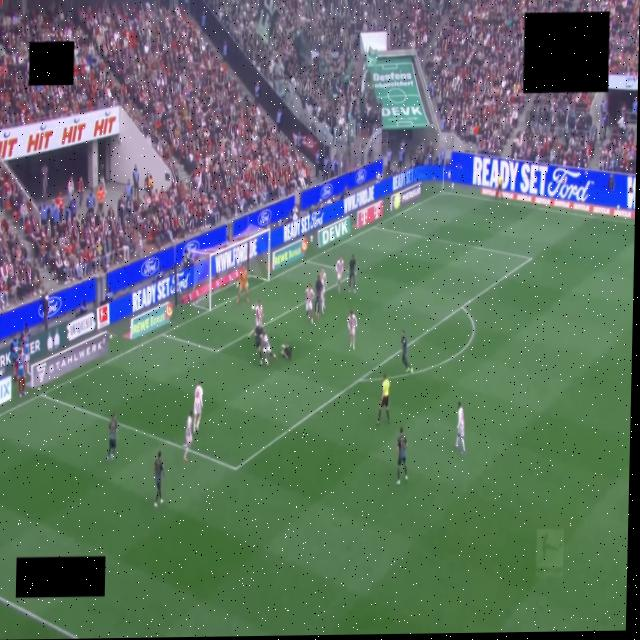ball: (251, 305, 255, 310)
player: (153, 451, 164, 508), (400, 330, 414, 374), (397, 427, 407, 484), (250, 325, 264, 363), (107, 414, 118, 460), (262, 332, 277, 365), (456, 402, 465, 454), (193, 381, 202, 432), (184, 411, 193, 460), (347, 310, 358, 350), (236, 267, 248, 302), (305, 284, 314, 323), (315, 275, 323, 318), (320, 267, 327, 314), (349, 255, 356, 291), (336, 257, 343, 291), (255, 301, 263, 326), (281, 344, 292, 360)
referee: (377, 374, 389, 425)
